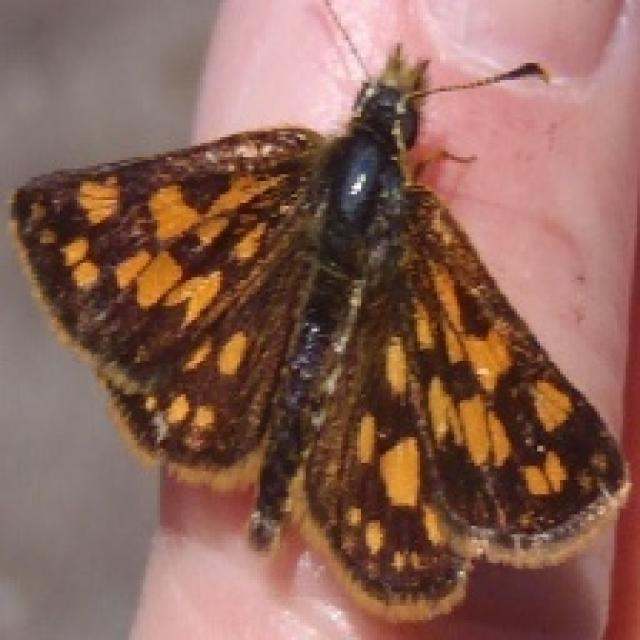butterfly: (6, 0, 631, 623)
